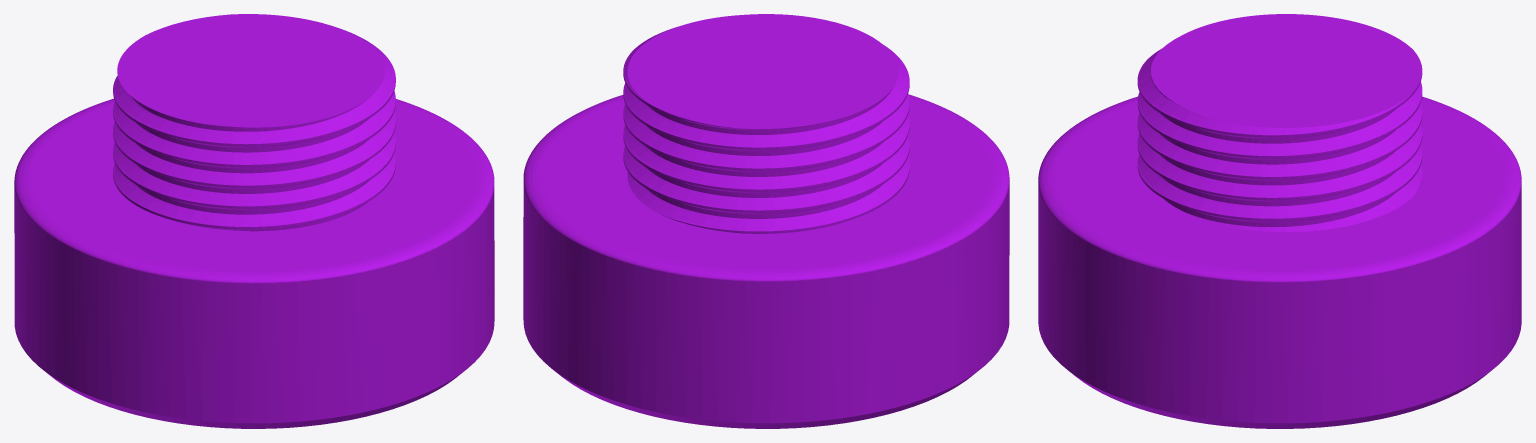
The model's file is socle_produit_03.glb.
3 renders of one model, left to right at view 1: azimuth 30°, elevation 25°; view 2: azimuth 150°, elevation 25°; view 3: azimuth 270°, elevation 25°, orthographic.
Parts seen in each view (by area): view 1: bouteille prototype V3 base; view 2: bouteille prototype V3 base; view 3: bouteille prototype V3 base.
Boxes of the visible parts, x1,y1,x2,y2 form: bouteille prototype V3 base: (14, 14, 494, 428); bouteille prototype V3 base: (523, 14, 1009, 428); bouteille prototype V3 base: (1038, 14, 1521, 428).
Size of the model in its own units: 83.5 by 49.7 by 83.49.
